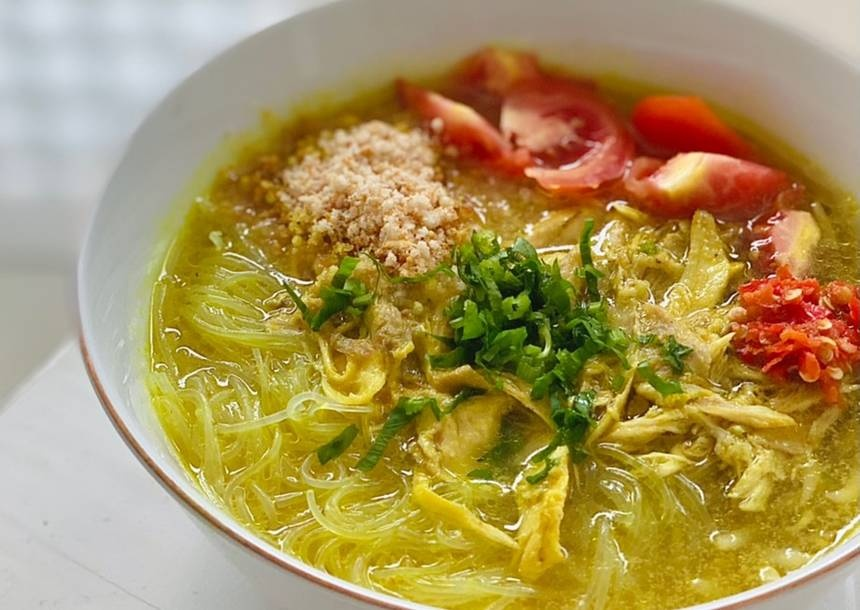soto: (69, 25, 853, 603)
